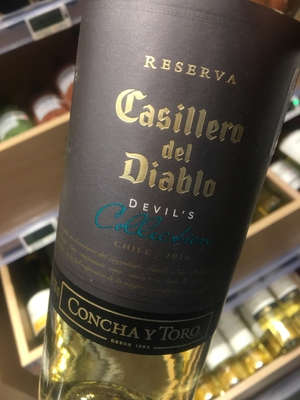casillero del diablo devils collection verde: (43, 1, 300, 399)
